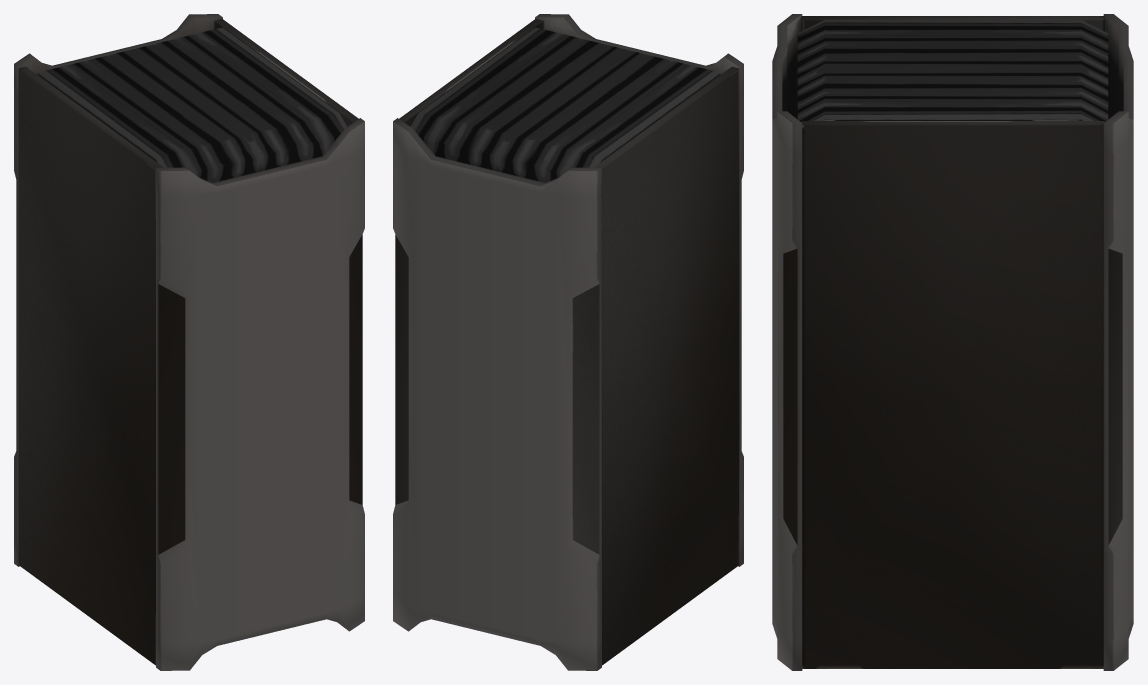
File: ComputerTower.gltf
3 views of the same model, side by side, from view 1: azimuth 30°, elevation 25°; view 2: azimuth 150°, elevation 25°; view 3: azimuth 270°, elevation 25° (orthographic). The views are drawn at different scales.
Visible parts, largest first — view 1: Computer Tower; view 2: Computer Tower; view 3: Computer Tower.
Part boxes in pixels (x1,y1,x2,y2): Computer Tower: (14,14,364,670); Computer Tower: (393,14,743,670); Computer Tower: (772,14,1133,670).
Size of the model in its own units: 0.2053 by 0.48 by 0.2871.
1 material, 1 textured.
